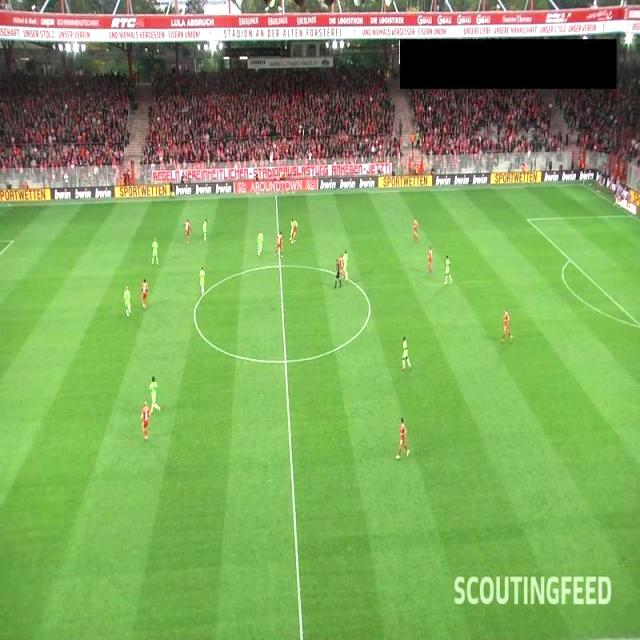bigarea_top_inner: (6, 234, 20, 248), (522, 213, 534, 224)
bigarea_top_outter: (628, 210, 640, 222)
corner: (578, 180, 588, 190)
halfcircle_bottom: (280, 357, 291, 368)
halfcircle_top: (275, 262, 286, 272)
midline_bottom_intersection: (334, 3, 344, 14)
midline_top_intersection: (270, 190, 282, 200)
top_arc_area_intersection: (566, 256, 576, 266)
